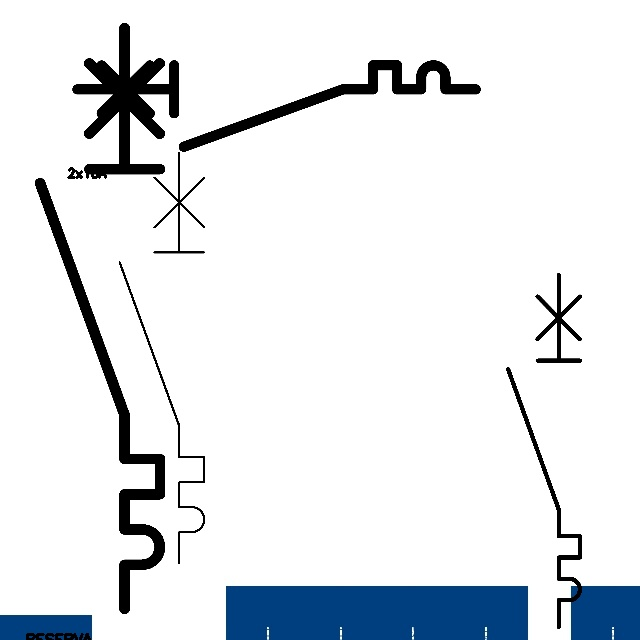interruptor_termomagnetico: (25, 13, 175, 624), (109, 142, 215, 574), (67, 55, 486, 157), (499, 266, 589, 636)
